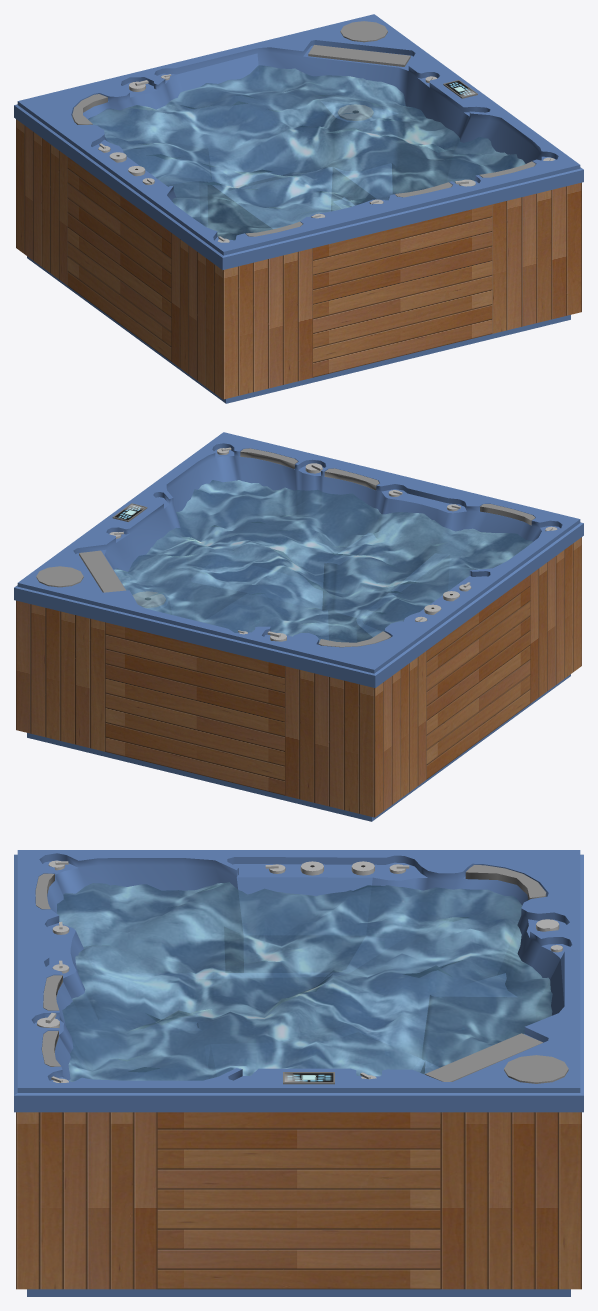
Rendered from jacuzzi.glb.
3 renders of one model, top to bottom at view 1: azimuth 30°, elevation 25°; view 2: azimuth 150°, elevation 25°; view 3: azimuth 270°, elevation 25°, orthographic. The views are drawn at different scales.
Visible parts, largest first — view 1: jacuzzi; view 2: jacuzzi; view 3: jacuzzi.
Boxes of the visible parts, <box> form: jacuzzi: <box>14,14,583,403</box>; jacuzzi: <box>14,432,583,821</box>; jacuzzi: <box>14,850,583,1296</box>.
Size of the model in its own units: 228 by 94.8 by 228.
9 materials, 3 textured.
